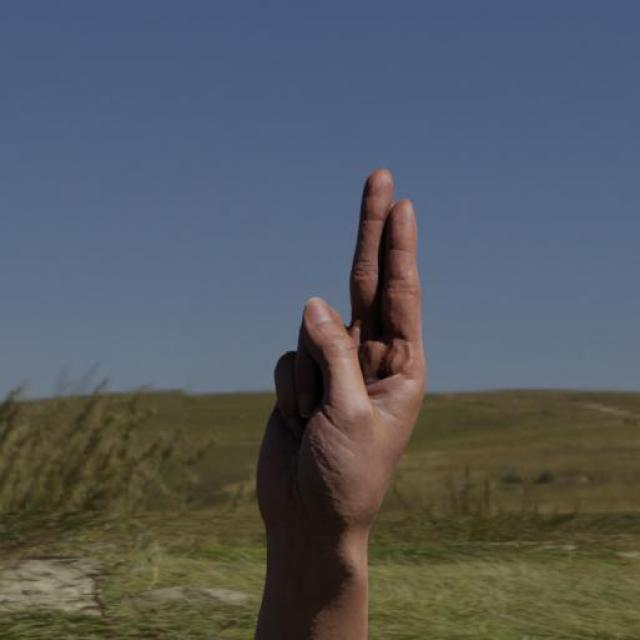U: (250, 167, 430, 539)
